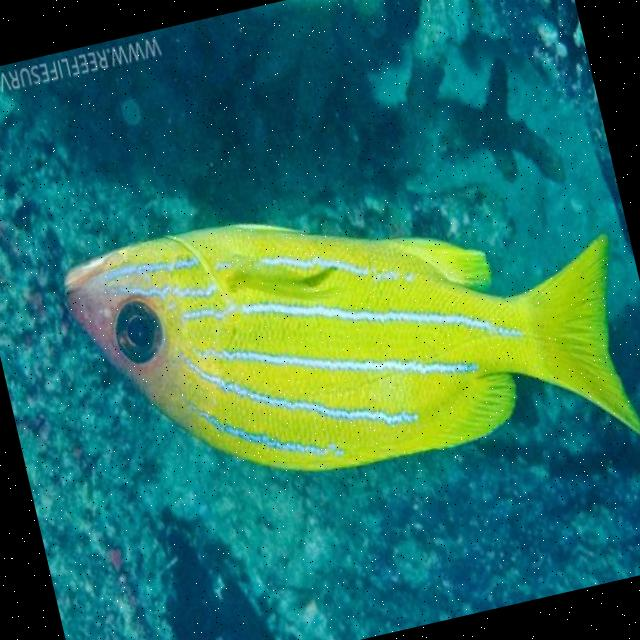ikan: (55, 134, 640, 574)
